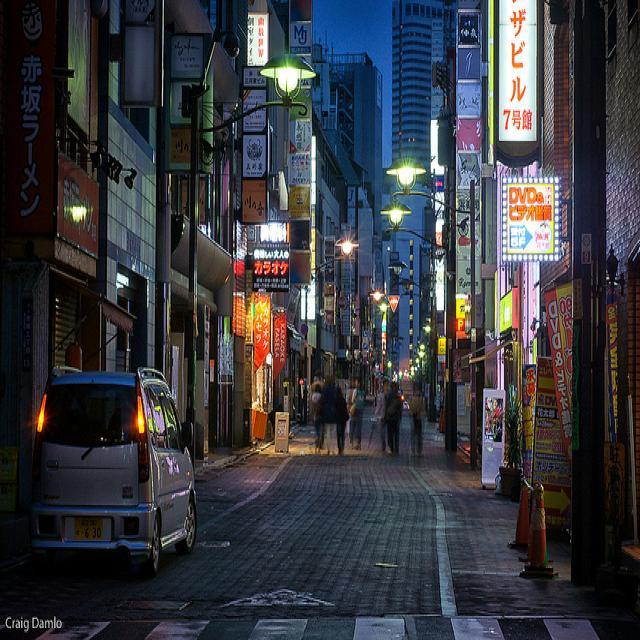Vehicle: (31, 366, 196, 580), (402, 400, 410, 412)
